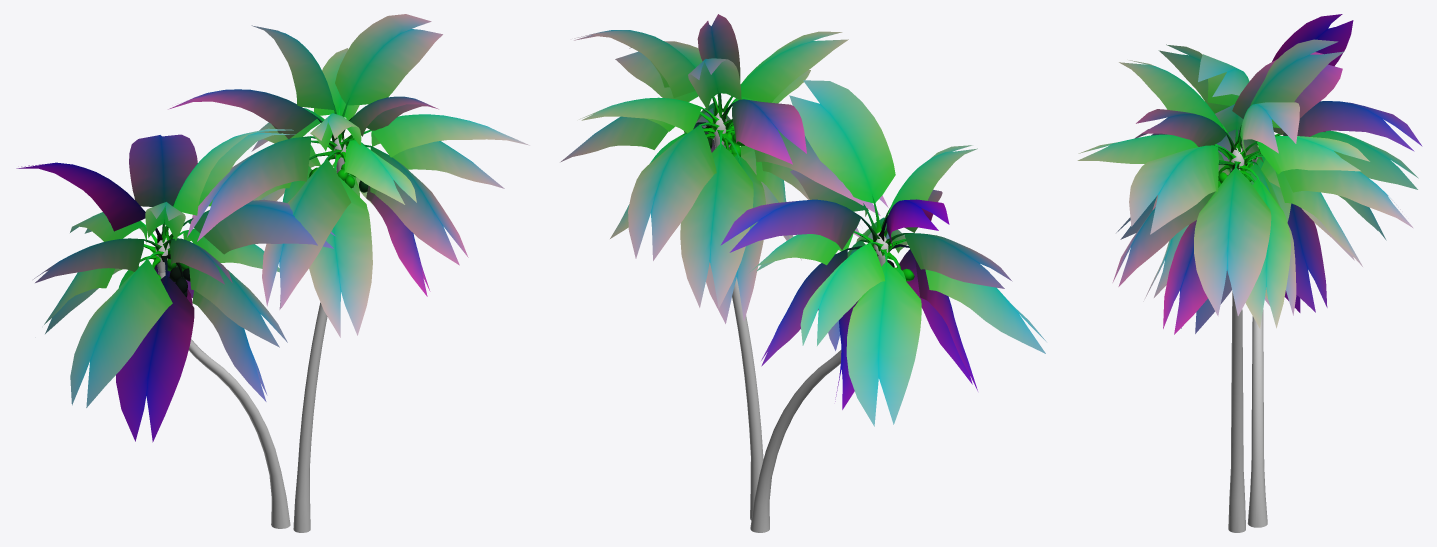
The model's file is Asset_Palm.fbx.
3 views of the same model, side by side, from view 1: azimuth 30°, elevation 25°; view 2: azimuth 150°, elevation 25°; view 3: azimuth 270°, elevation 25° (orthographic). The views are drawn at different scales.
Parts seen in each view (by area): view 1: Tree_2, Tree_0, Tree_3, Tree_4; view 2: Tree_2, Tree_0, Tree_3; view 3: Tree_2, Tree_0, Tree_3.
Boxes of the visible parts, bbox=[...] form: Tree_2: bbox=[16, 14, 529, 442]; Tree_0: bbox=[158, 170, 337, 532]; Tree_3: bbox=[137, 98, 378, 283]; Tree_4: bbox=[158, 163, 368, 297]; Tree_2: bbox=[560, 14, 1046, 426]; Tree_0: bbox=[732, 277, 841, 532]; Tree_3: bbox=[679, 88, 910, 272]; Tree_2: bbox=[1077, 14, 1422, 334]; Tree_0: bbox=[1228, 291, 1267, 532]; Tree_3: bbox=[1212, 122, 1280, 183].
Bounding box in the file's own units: 630 × 628 × 402.
